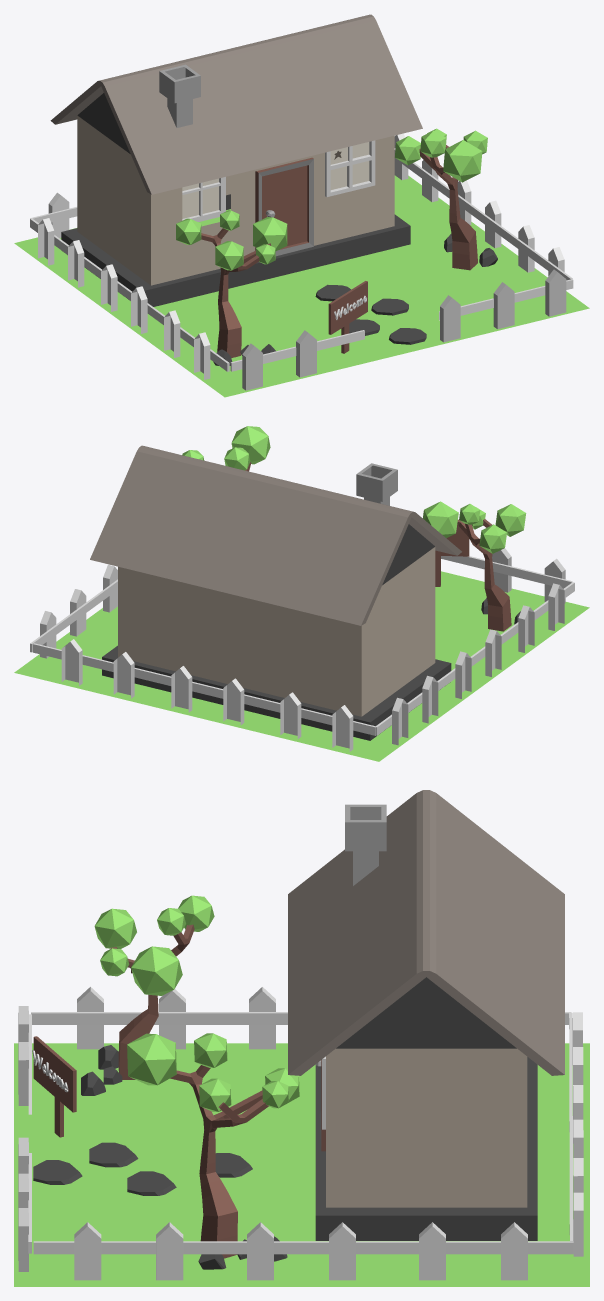
The model's file is practiced2.fbx.
3 renders of one model, top to bottom at view 1: azimuth 30°, elevation 25°; view 2: azimuth 150°, elevation 25°; view 3: azimuth 270°, elevation 25°, orthographic. The views are drawn at different scales.
Parts seen in each view (by area): view 1: Plane.035, Plane, Plane.036, Plane.033, Cube.007, tree1, tree2, Plane.032, Plane.013, Plane.007, Cube.011, Cube.008 (+27 smaller); view 2: Plane.035, Plane.036, Plane, Plane.033, Plane.023, tree2, Plane.032, Plane.014, Plane.013, Icosphere.005, Plane.007, Icosphere.003 (+19 smaller); view 3: Plane, Plane.035, Plane.036, Plane.033, Plane.007, tree1, Plane.014, Plane.032, Icosphere.005, Cube.011, Icosphere.003, tree2 (+24 smaller).
Boxes of the visible parts, x1,y1,x2,y2 form: Plane.035: (50,14,422,194); Plane: (14,175,589,397); Plane.036: (77,115,394,285); Plane.033: (61,93,410,306); Cube.007: (255,157,313,250); tree1: (419,145,477,270); tree2: (201,228,271,357); Plane.032: (159,64,200,127); Plane.013: (230,279,573,371); Plane.007: (394,148,572,280); Cube.011: (328,281,367,353); Cube.008: (325,140,375,197); Plane.035: (90,445,461,625); Plane.036: (118,547,435,716); Plane: (14,571,589,761); Plane.033: (102,524,451,740); Plane.023: (33,643,376,735); tree2: (457,519,511,631); Plane.032: (356,463,397,505); Plane.014: (375,582,574,735); Plane.013: (441,556,572,588); Icosphere.005: (231,426,270,464); Plane.007: (30,579,117,652); Icosphere.003: (423,501,458,537); Plane: (14,1043,589,1286); Plane.035: (288,790,564,1075); Plane.036: (326,1048,527,1207); Plane.033: (315,977,537,1240); Plane.007: (33,1241,573,1254); tree1: (170,1065,268,1258); Plane.014: (31,1012,571,1024); Plane.032: (345,804,386,885); Icosphere.005: (127,1033,176,1085); Cube.011: (33,1036,76,1137); Icosphere.003: (131,946,182,995); tree2: (110,924,194,1079).
Bounding box in the file's own units: 2000 × 1127 × 2000.
